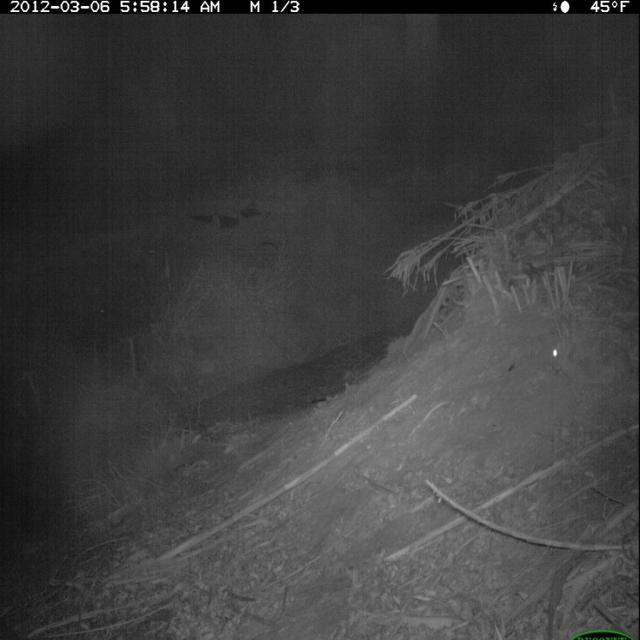rabbit: (549, 308, 636, 406)
